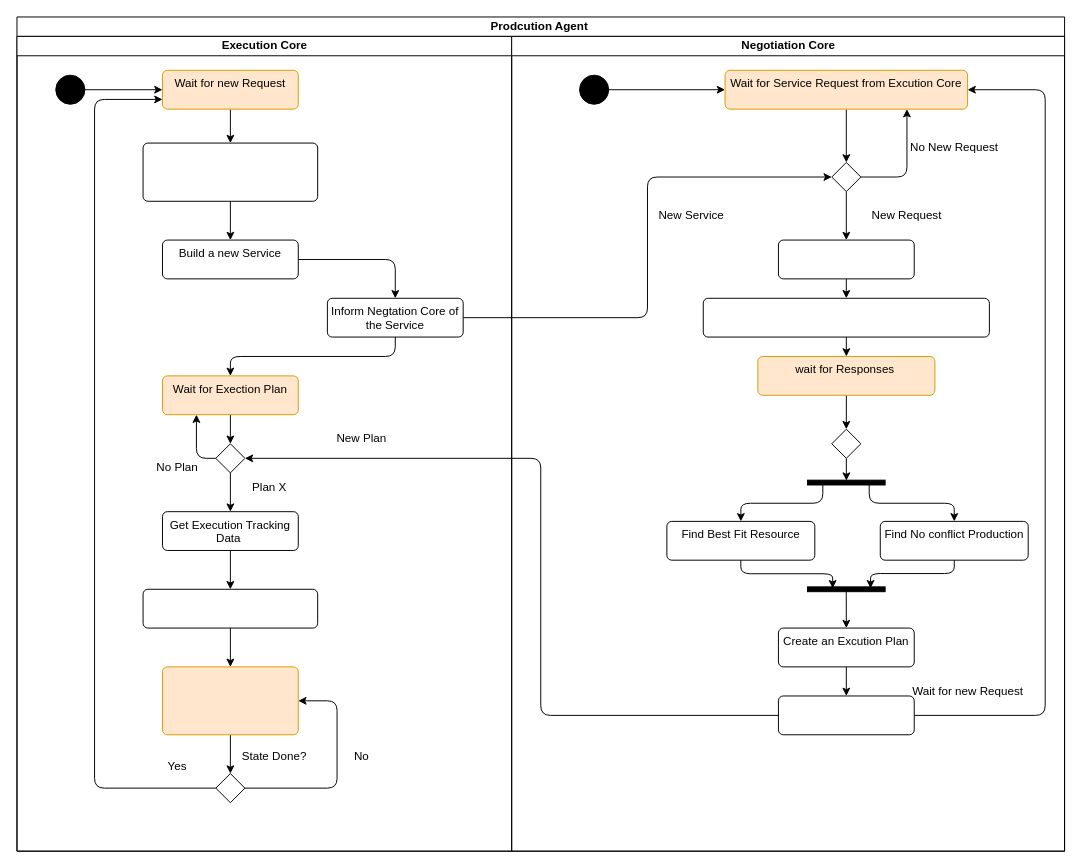
Some shapes in this 1082 by 868 pixel diagram are drawn without their labels. Here are the shapes that lost their labels. From the top down, the box of each, then its label:
(142, 142, 318, 201): Get ProcessPlan Nodes ,Edge , Exit Point , Entry Point
(777, 239, 914, 279): Create a new CFP
(702, 297, 989, 337): Publish CFP to Resources and other Production Agent
(142, 588, 318, 628): Send an Start Execution request to allocated Resource
(162, 666, 298, 735): Track and Update the Token Position , Current Node , State and Timestamp
(777, 695, 914, 735): Inform Execution Core with the new Plan
